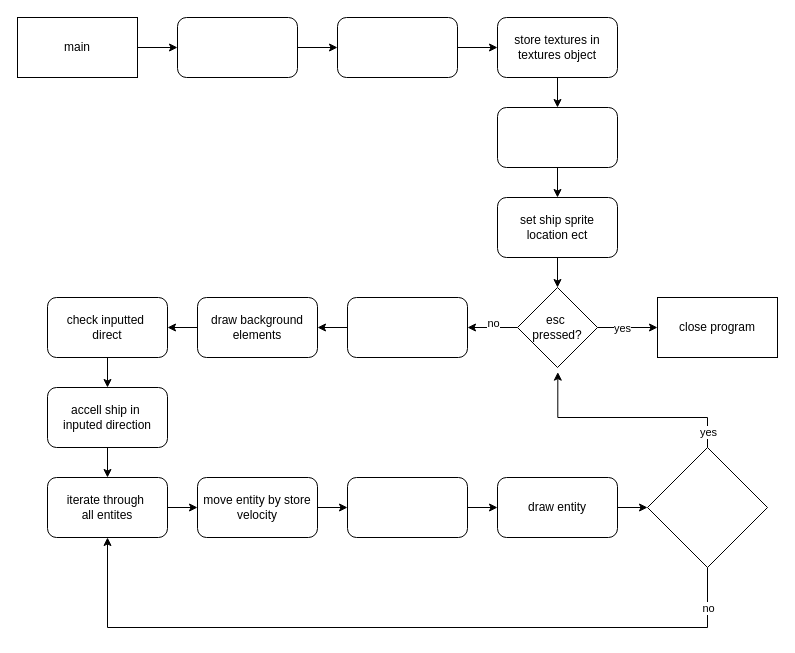
Some shapes in this 795 by 653 pixel diagram are drawn without their labels. The shapes that lost their labels are listed below. From the top down, each one's box as (x1, y1, x2, y2) in pixels, then its label:
(176, 16, 298, 78): create window
(336, 16, 458, 78): Get Textures from files
(496, 106, 618, 168): createShip
(346, 296, 468, 358): scroll paralax background
(346, 476, 468, 538): ensure entity is within bounds
(646, 446, 768, 568): are all entitites iterated through
